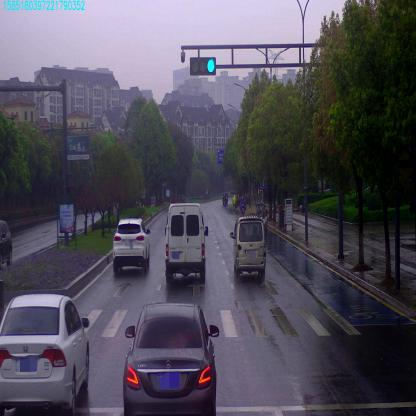traffic-light: (190, 57, 216, 78)
